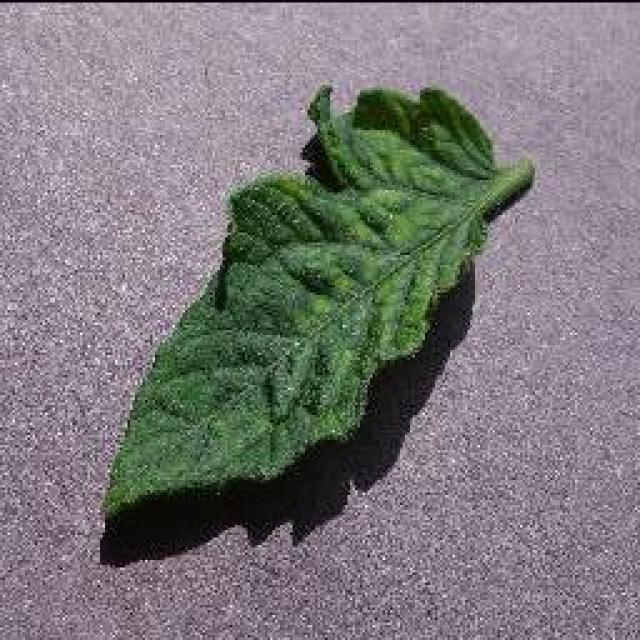Tomato___Tomato_mosaic_virus: (105, 88, 530, 512)
